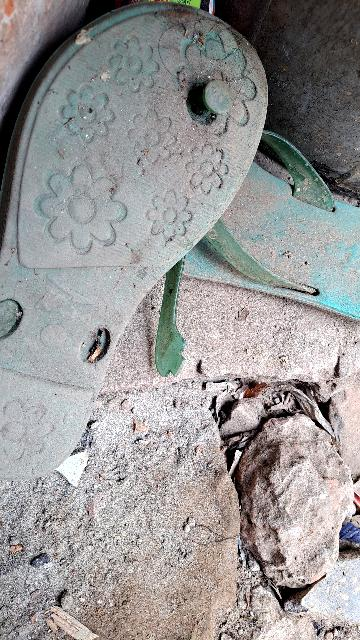sandal: (0, 32, 277, 514), (189, 151, 360, 347)
